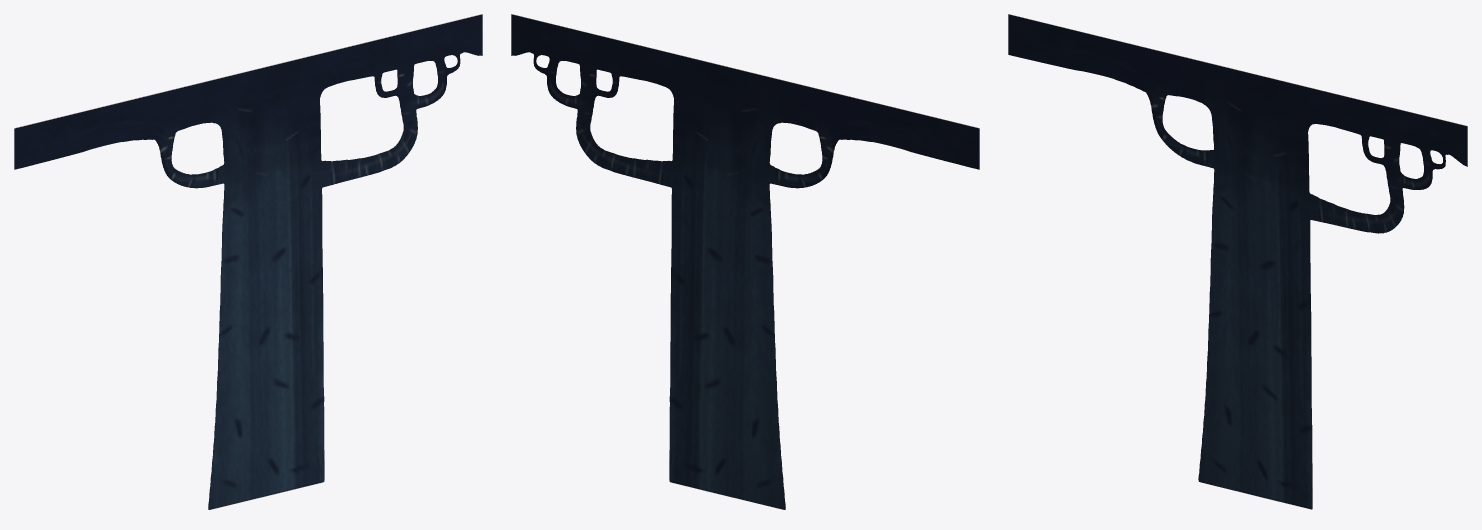
Rendered from Arbre_03.fbx.
The picture shows the model from 3 angles, left to right: view 1: azimuth 30°, elevation 25°; view 2: azimuth 150°, elevation 25°; view 3: azimuth 330°, elevation 25°; orthographic projection.
Parts seen in each view (by area): view 1: Arbre_07; view 2: Arbre_07; view 3: Arbre_07.
Boxes of the visible parts, x1,y1,x2,y2 form: Arbre_07: [14, 14, 482, 509]; Arbre_07: [511, 14, 979, 509]; Arbre_07: [1008, 14, 1467, 509].
Size of the model in its own units: 17.57 by 15.55 by 2.38e-07.
